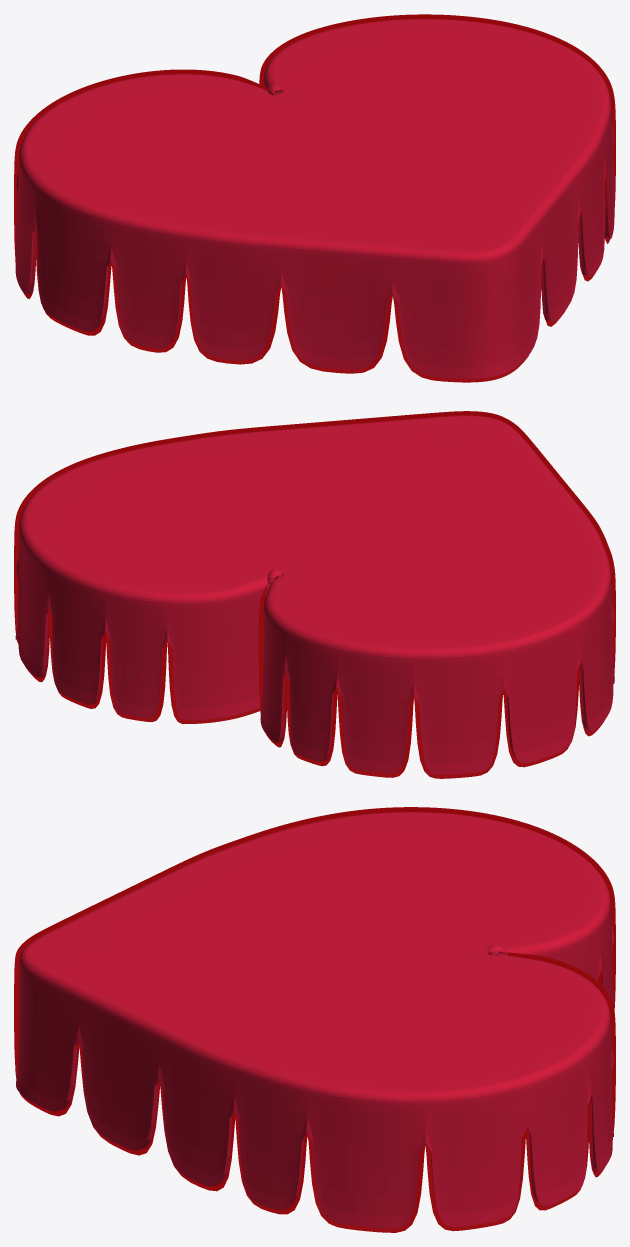
File: coracao vermelho.glb
The picture shows the model from 3 angles, top to bottom: view 1: azimuth 30°, elevation 25°; view 2: azimuth 150°, elevation 25°; view 3: azimuth 270°, elevation 25°; orthographic projection. The views are drawn at different scales.
Parts seen in each view (by area): view 1: Circle.013; view 2: Circle.013; view 3: Circle.013.
Boxes of the visible parts, box(x1,y1,x2,y2) form: Circle.013: box(14, 14, 615, 382); Circle.013: box(14, 411, 615, 778); Circle.013: box(14, 807, 615, 1232).
Size of the model in its own units: 25.3 by 6.05 by 22.1.
